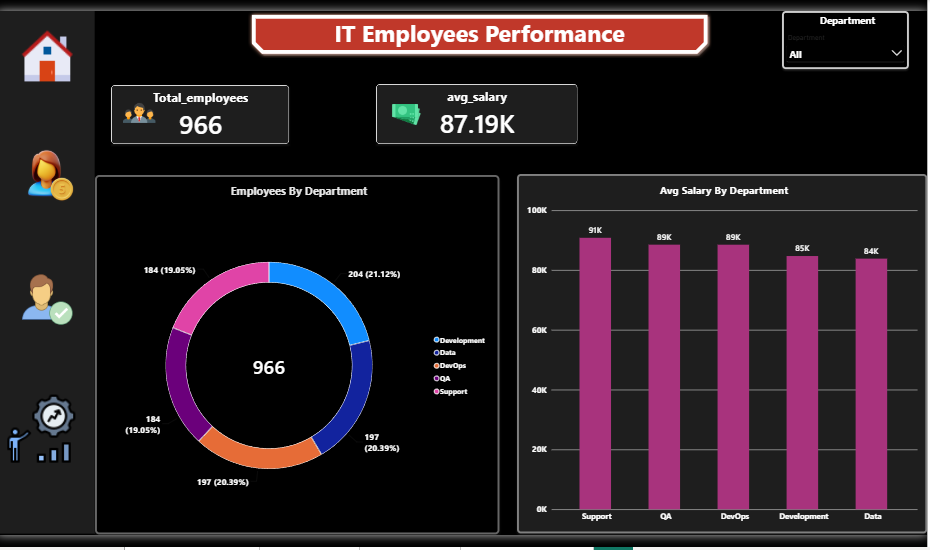

What the dashboard file says about the page in this screenshot:
{"tool":"powerbi","page":{"name":"emp_overview","canvas":[1920,1080],"ordinal":0},"visuals":[{"type":"shape","box":[0,0,201.7,1079.1],"z":0},{"type":"cardVisual","fields":{"Data":["employee_db employee_performance.avg_salary"]},"box":[783,150.2,416.2,124.4],"z":0,"group":"g3"},{"type":"cardVisual","fields":{"Data":["employee_db employee_performance.Total_employees"]},"box":[236,152.3,369,122.3],"z":1000,"group":"g4"},{"type":"donutChart","title":"Employees By Department","fields":{"Category":["employee_db employee_performance.Department"],"Y":["employee_db employee_performance.Total_employees"]},"box":[202.2,337.8,834.5,742.3],"z":1000},{"type":"clusteredColumnChart","title":"Avg Salary By Department","fields":{"Category":["employee_db employee_performance.Department"],"Y":["employee_db employee_performance.avg_salary"]},"box":[1072.6,336.8,847.4,742.3],"z":2000},{"type":"shape","box":[519.2,0,956.8,96.5],"z":3000},{"type":"group","id":"g1","title":"Group 1","box":[236,152.3,369,122.3],"z":4000},{"type":"group","id":"g2","title":"Group 2","box":[783,150.2,416.2,124.4],"z":5000},{"type":"image","box":[27.9,27.9,150.2,126.6],"z":6000},{"type":"image","box":[260.8,164.4,66.7,89.8],"z":6500,"group":"g4"},{"type":"image","box":[27.9,278.9,160.9,113.7],"z":7000},{"type":"image","box":[799.6,181.7,90.1,63.3],"z":7002,"group":"g3"},{"type":"image","box":[36.5,540.6,130.9,107.3],"z":8000},{"type":"image","box":[16,774,150.2,175.9],"z":9000},{"type":"slicer","title":"Department ","fields":{"Values":["employee_db employee_performance.Department"]},"box":[1619.7,0,261.7,120.1],"z":10000},{"type":"group","id":"g3","title":"Group 4","box":[783,150.2,416.2,124.4],"z":11008,"group":"g2"},{"type":"group","id":"g4","title":"Group 3","box":[236,152.3,369,122.3],"z":11008,"group":"g1"}]}

Visuals, with their boxes on the page's 1920x1080 design canvas (x1, y1, x2, y2). These are canvas units, not pixel positions in the 930x550 screenshot, which may show the page scaled, cropped or inside an application window:
shape: (0,0,202,1079)
cardVisual - employee_db employee_performance.avg_salary: (783,150,1199,275)
cardVisual - employee_db employee_performance.Total_employees: (236,152,605,275)
"Employees By Department" donutChart: (202,338,1037,1080)
"Avg Salary By Department" clusteredColumnChart: (1073,337,1920,1079)
shape: (519,0,1476,96)
"Group 1" group: (236,152,605,275)
"Group 2" group: (783,150,1199,275)
image: (28,28,178,154)
image: (261,164,328,254)
image: (28,279,189,393)
image: (800,182,890,245)
image: (36,541,167,648)
image: (16,774,166,950)
"Department " slicer: (1620,0,1881,120)
"Group 4" group: (783,150,1199,275)
"Group 3" group: (236,152,605,275)
